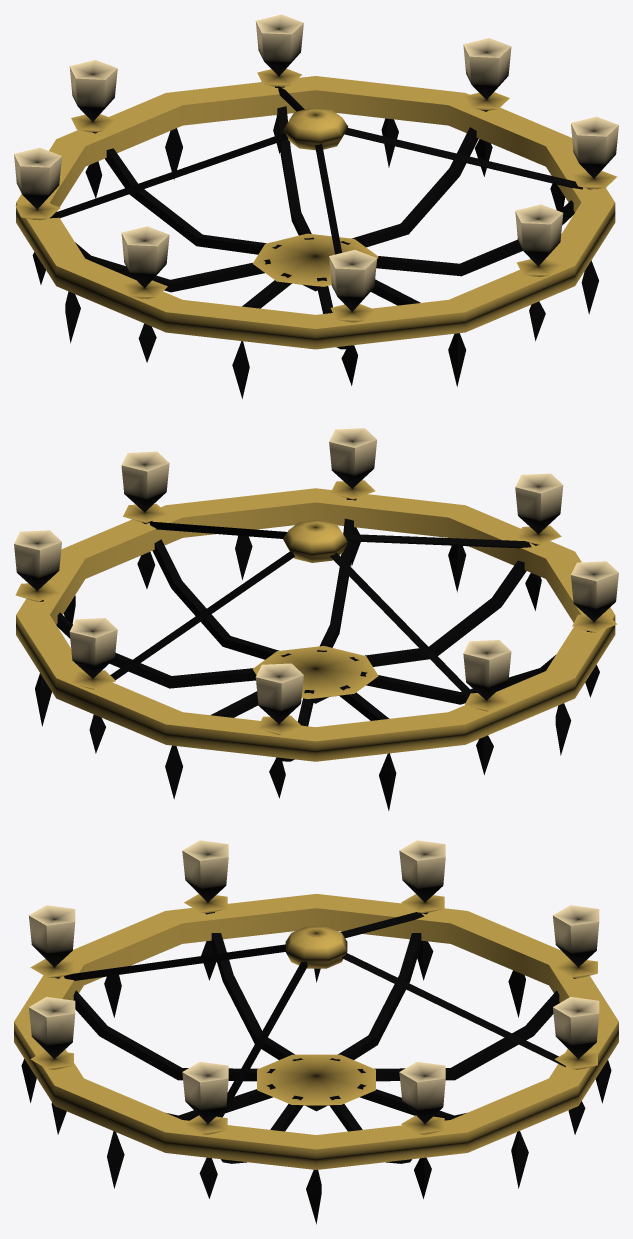
File: chandelier.glb
3 views of the same model, one above another, from view 1: azimuth 30°, elevation 25°; view 2: azimuth 150°, elevation 25°; view 3: azimuth 270°, elevation 25° (orthographic).
Parts seen in each view (by area): view 1: gilt, shades, drops; view 2: gilt, shades, drops; view 3: gilt, shades, drops.
Boxes of the visible parts, bbox=[...] form: gilt: bbox=[15, 68, 617, 349]; shades: bbox=[14, 14, 618, 311]; drops: bbox=[32, 117, 598, 398]; gilt: bbox=[15, 480, 616, 761]; shades: bbox=[14, 428, 618, 723]; drops: bbox=[35, 527, 599, 810]; gilt: bbox=[14, 894, 618, 1169]; shades: bbox=[28, 840, 599, 1123]; drops: bbox=[21, 941, 611, 1224].
Bounding box in the file's own units: 0.8 × 0.26 × 0.8.
